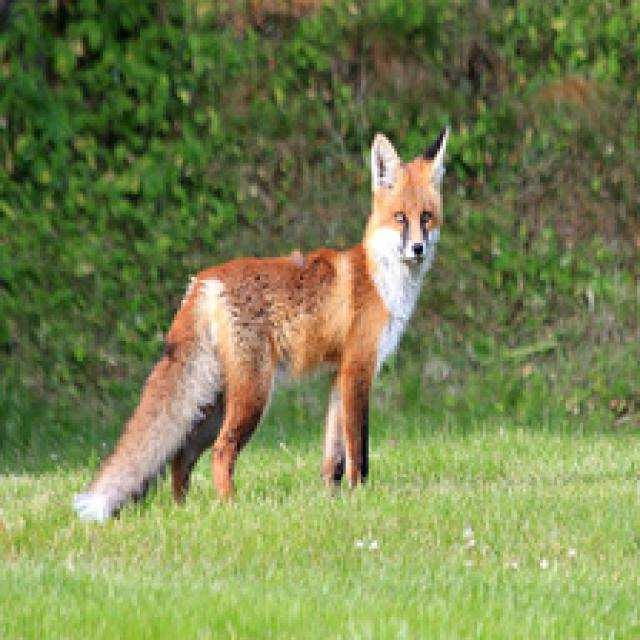fox: (89, 123, 462, 484)
